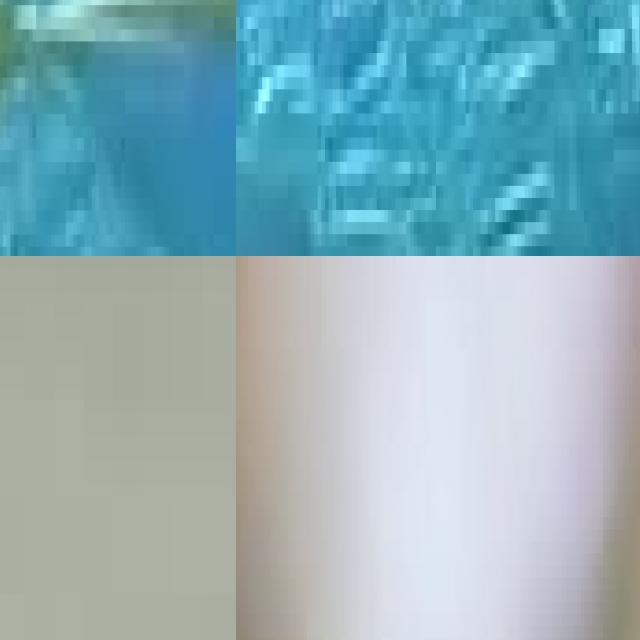fish: (236, 481, 640, 640), (0, 0, 236, 256)
